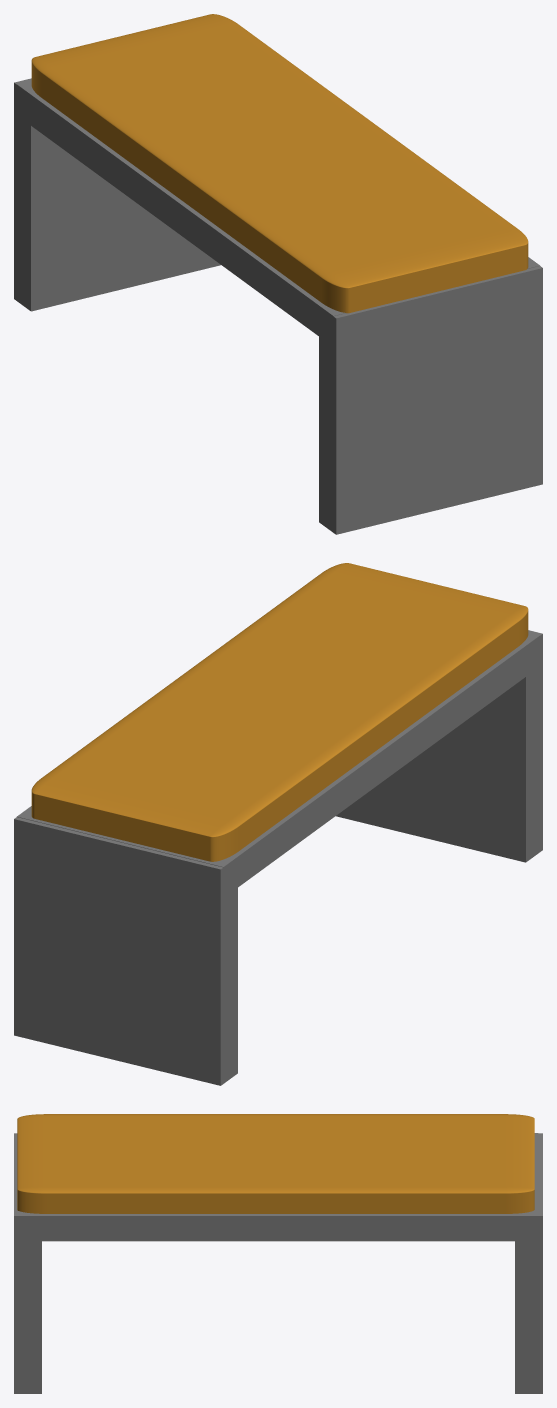
Rendered from Bænk.fbx.
The picture shows the model from 3 angles, top to bottom: view 1: azimuth 30°, elevation 25°; view 2: azimuth 150°, elevation 25°; view 3: azimuth 270°, elevation 25°; orthographic projection. The views are drawn at different scales.
Visible parts, largest first — view 1: Cube.003, Cube, Cube.002, Cube.001; view 2: Cube.003, Cube.002, Cube, Cube.001; view 3: Cube.003, Cube.001, Cube, Cube.002.
Boxes of the visible parts, <box> form: Cube.003: <box>31,14,528,313</box>; Cube: <box>319,266,542,534</box>; Cube.002: <box>14,78,220,311</box>; Cube.001: <box>16,80,539,345</box>; Cube.003: <box>31,563,528,861</box>; Cube.002: <box>14,817,237,1085</box>; Cube: <box>336,630,542,862</box>; Cube.001: <box>17,632,539,897</box>; Cube.003: <box>17,1114,534,1213</box>; Cube.001: <box>18,1133,538,1241</box>; Cube: <box>14,1133,41,1393</box>; Cube.002: <box>515,1133,542,1393</box>.
Bounding box in the file's own units: 200 × 225 × 540.
